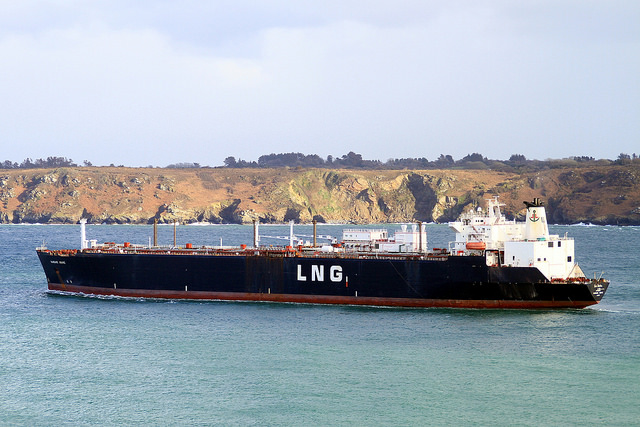LNG_ship: (32, 193, 609, 313)
